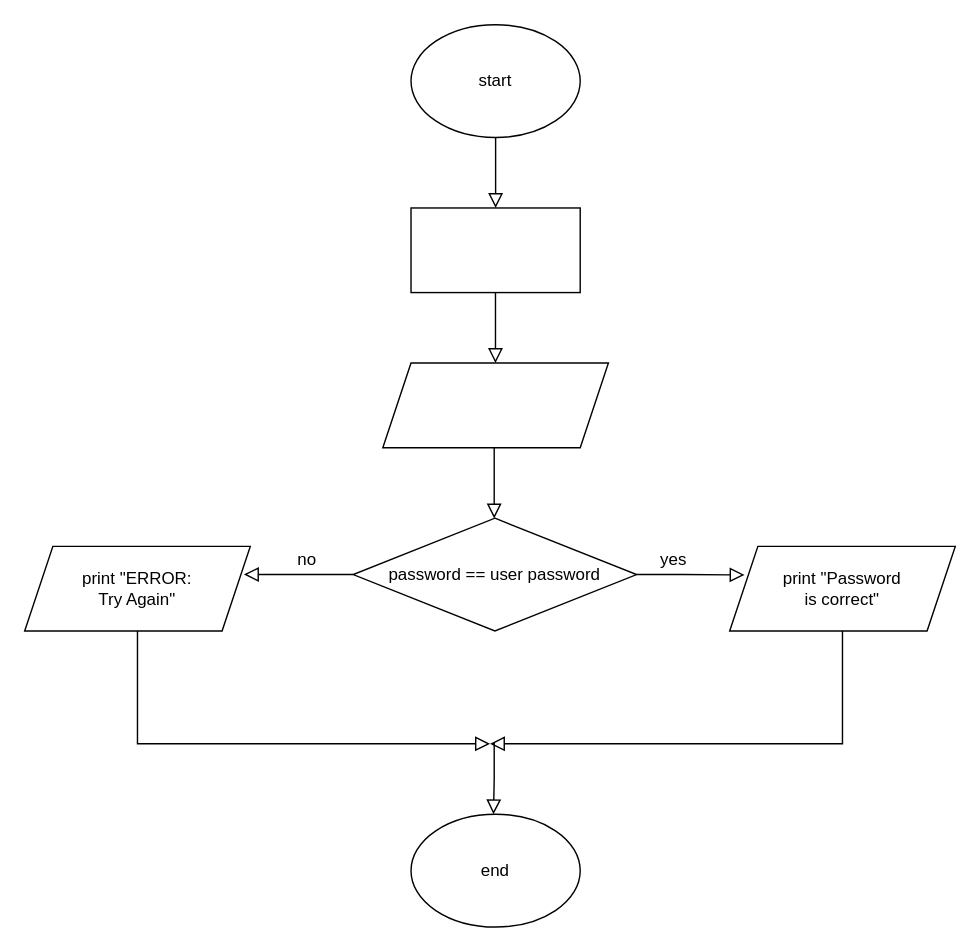
The diagram is 980 pixels wide and 952 high, and some of its shapes have lost their labels. The shapes that lost their labels are listed below. From the top down, each one's centre as x and y in pixels, then its label:
point 495,250: password = "Hello World"
point 494,405: input user password
